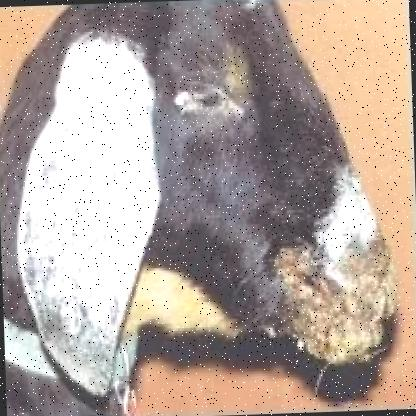ppr: (278, 241, 396, 376)
